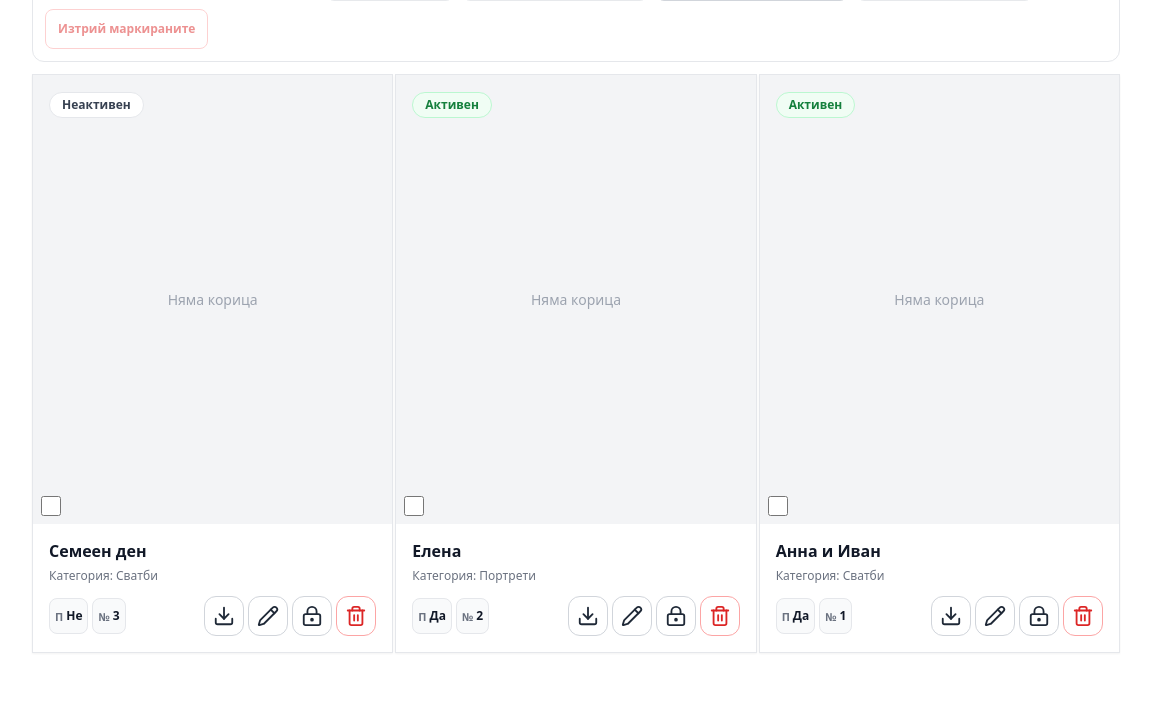
album management › downloads a single card and shows archive failures instead of a download link
(page scrolled)
Expected: the checkbox named "Маркирай албум „Семеен ден“" is shown, [41,496,61,516]
What coordinates should you click on to do the following:
click the button named "Изтегли архив на албум „Елена“"
I would click on:
 (588, 616)
Its box is [568,596,608,636].
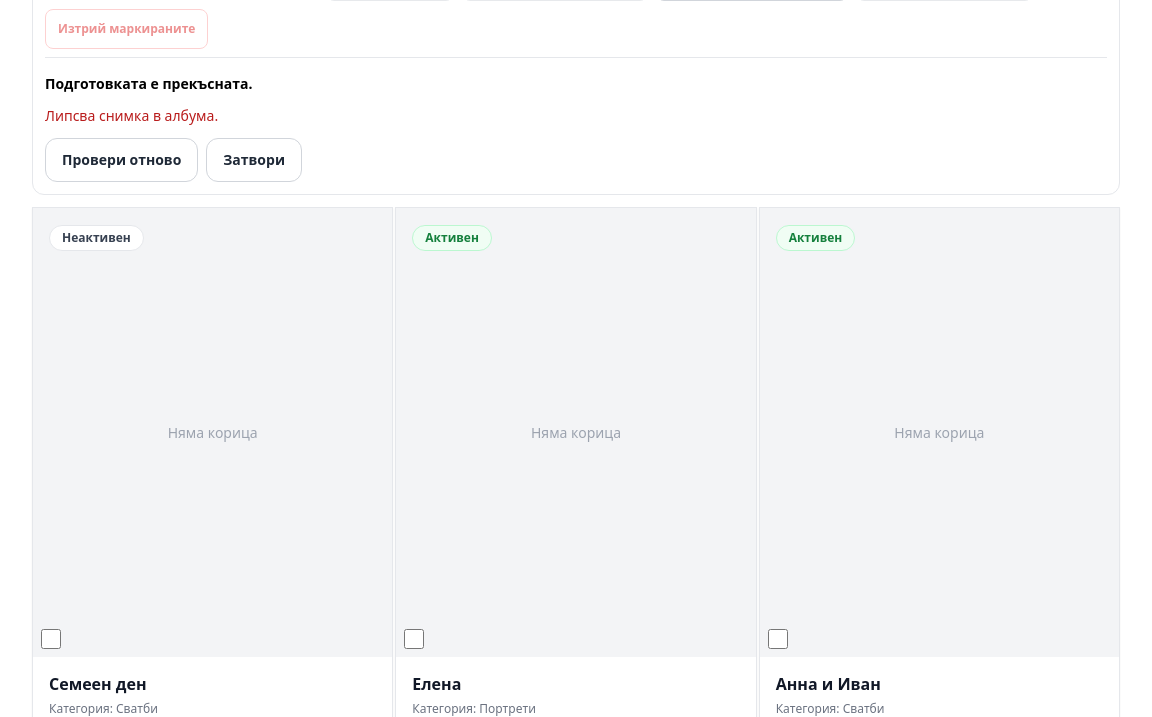
Now the text "Липсва снимка в албума." is shown, box [45,106,218,125]
